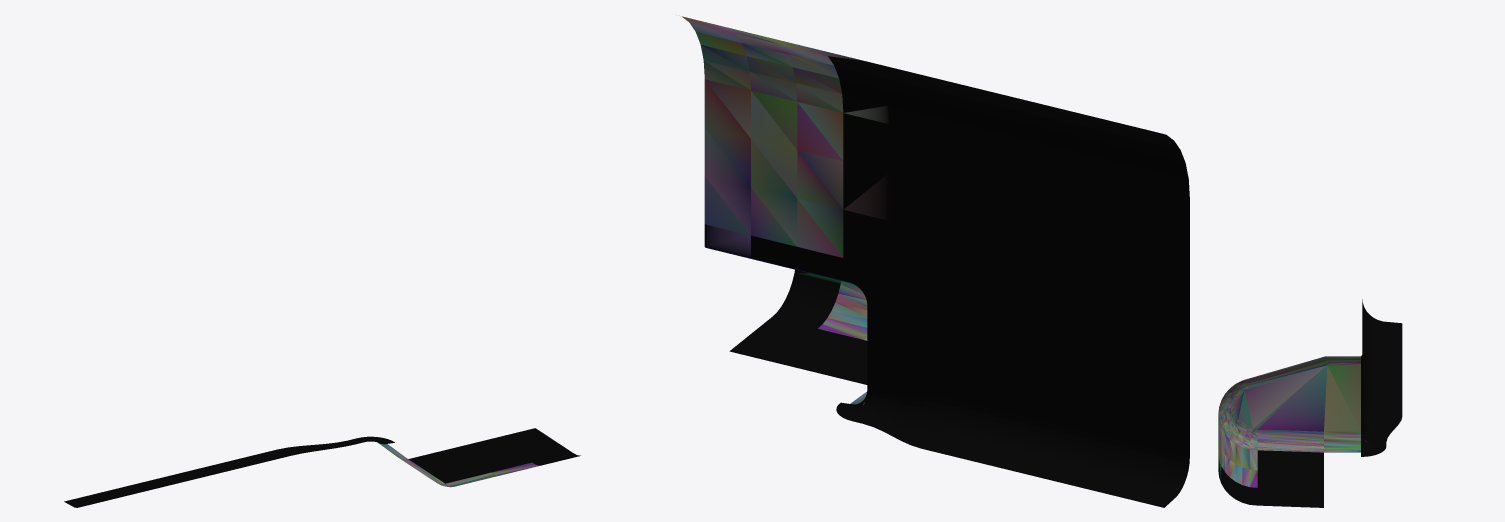
The model's file is Goal_STD_Collision_Half_Goal_STD_Collision.gltf.
3 renders of one model, left to right at view 1: azimuth 30°, elevation 25°; view 2: azimuth 150°, elevation 25°; view 3: azimuth 270°, elevation 25°, orthographic. The views are drawn at different scales.
Visible parts, largest first — view 1: Goal_STD_Collision_Half_Goal_STD_Collision; view 2: Goal_STD_Collision_Half_Goal_STD_Collision; view 3: Goal_STD_Collision_Half_Goal_STD_Collision.
Boxes of the visible parts, bbox=[...] form: Goal_STD_Collision_Half_Goal_STD_Collision: bbox=[64, 428, 580, 507]; Goal_STD_Collision_Half_Goal_STD_Collision: bbox=[682, 16, 1189, 507]; Goal_STD_Collision_Half_Goal_STD_Collision: bbox=[1218, 299, 1402, 507].
Size of the model in its own units: 26.88 by 20.84 by 16.64.
